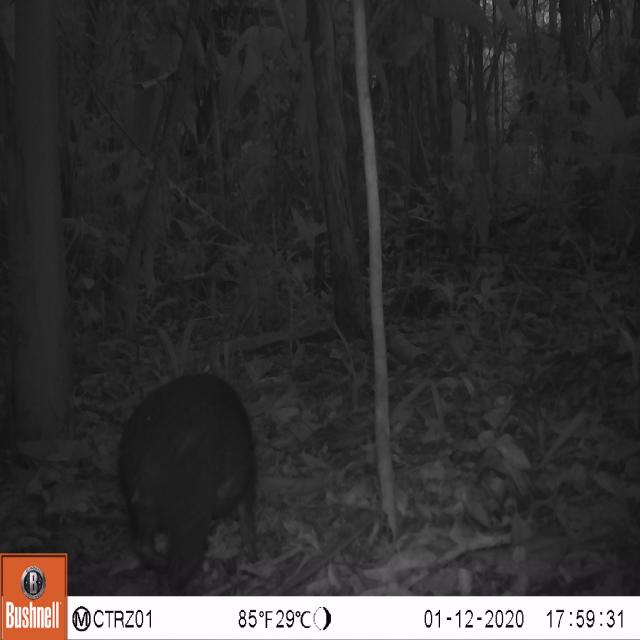Black Agouti: (96, 361, 274, 598)
